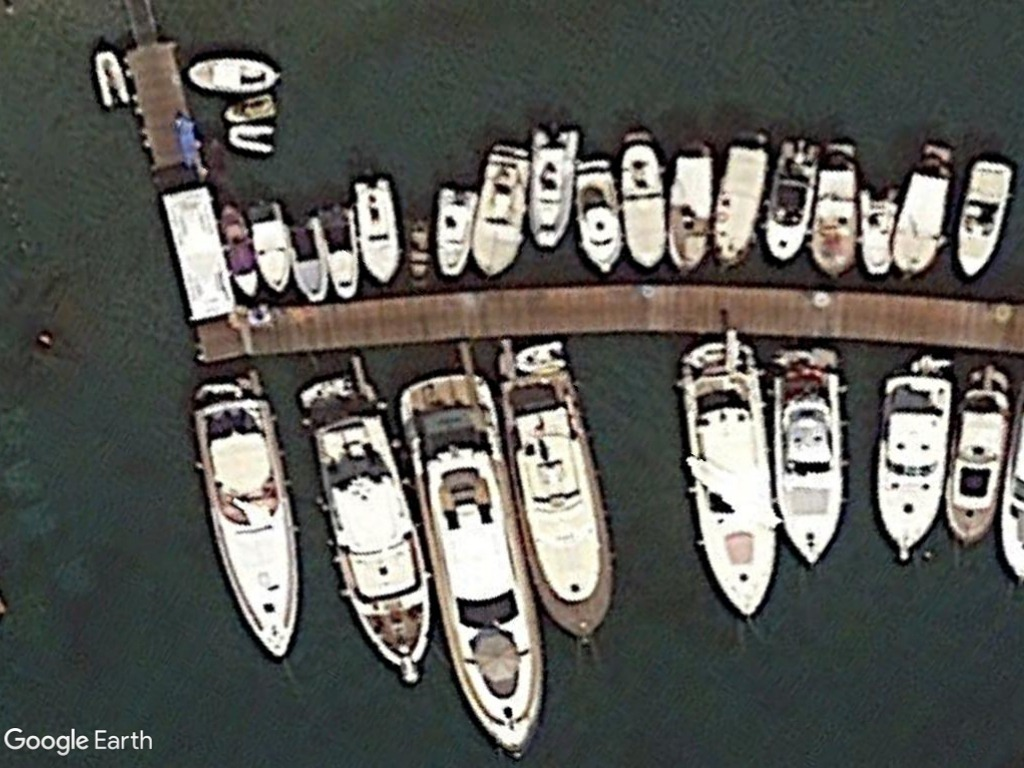boat: (399, 370, 556, 755), (296, 372, 443, 686), (493, 346, 619, 641), (184, 375, 305, 666), (673, 333, 780, 627), (769, 342, 855, 577), (871, 359, 959, 567), (943, 362, 1015, 552), (892, 128, 960, 285), (471, 135, 533, 284), (707, 131, 771, 273), (613, 127, 672, 273), (761, 130, 823, 267), (948, 154, 1015, 280), (658, 138, 715, 279), (806, 140, 864, 278), (525, 122, 584, 254), (572, 155, 628, 279), (348, 172, 406, 287), (215, 198, 264, 302), (430, 180, 479, 282), (183, 51, 288, 98), (245, 197, 294, 297), (284, 214, 337, 304), (317, 205, 365, 300), (855, 181, 897, 279), (88, 43, 130, 115), (223, 118, 280, 157), (217, 90, 284, 122)
